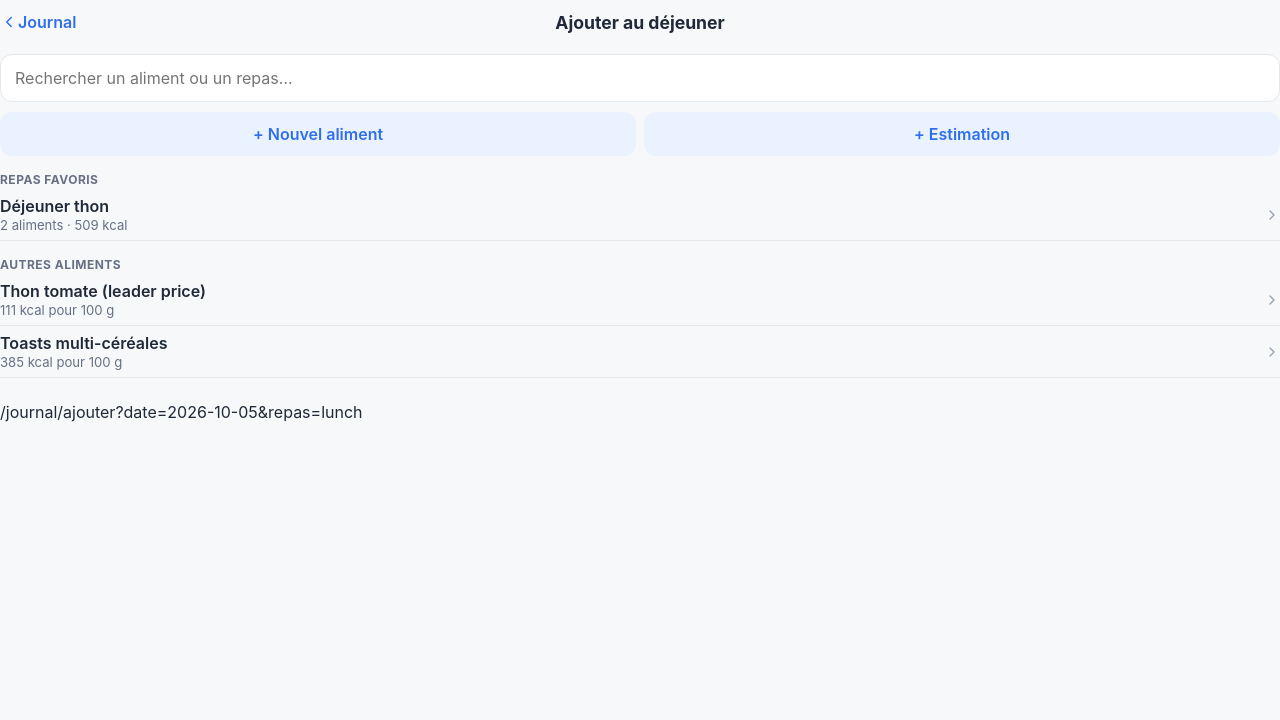
Test: ajouter un repas favori › quantité modifiée et aliment décoché pour cette fois : le repas favori ne change pas
Click the button "Déjeuner thon 2 aliments · 509 kcal" at (55, 206), box [0,189,1279,241]
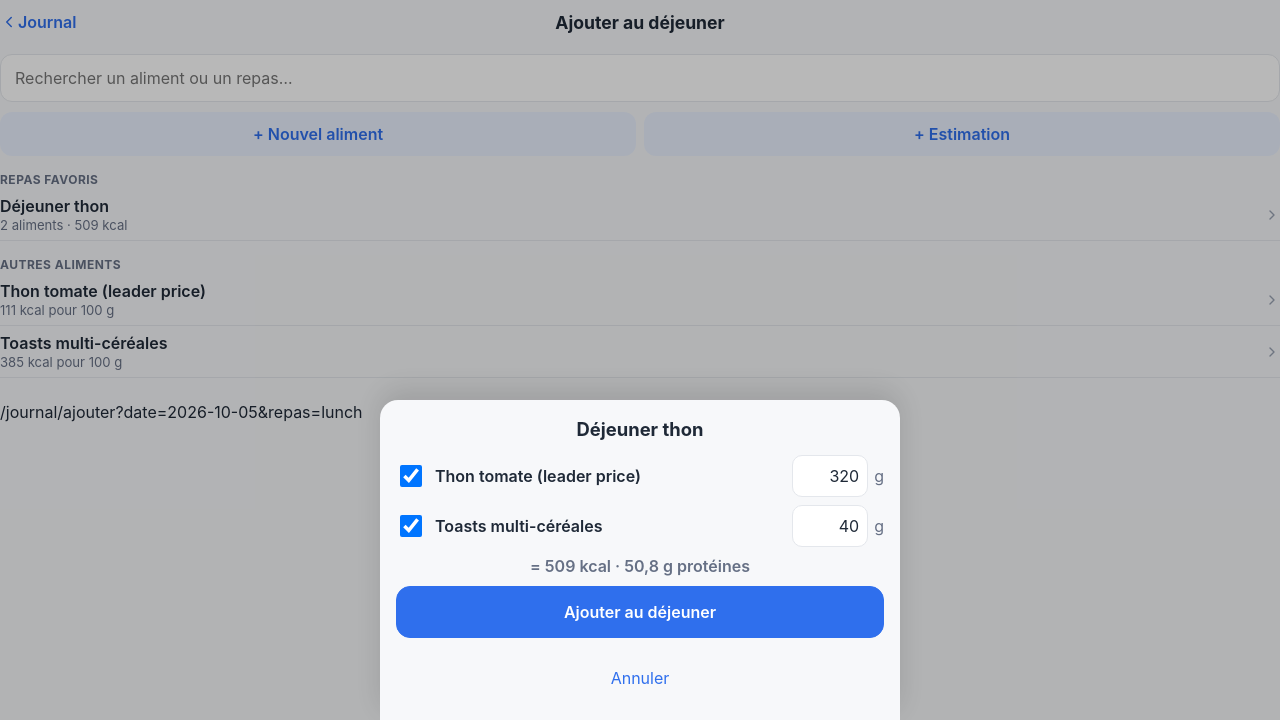
Replace the text in the field named "Quantité : Thon tomate (leader price)" with "160" at (830, 476), box [792,455,868,497]
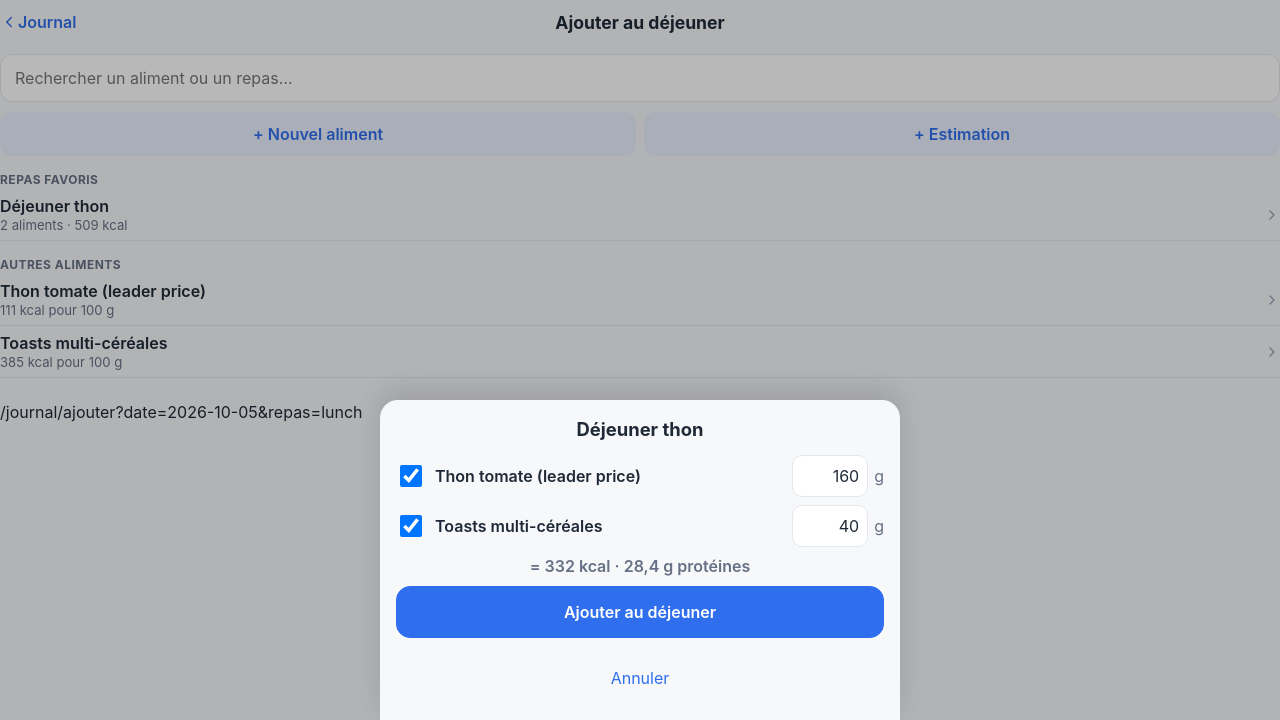
Click the checkbox named "Ajouter : Toasts multi-céréales" at (411, 526), box [400,515,422,537]
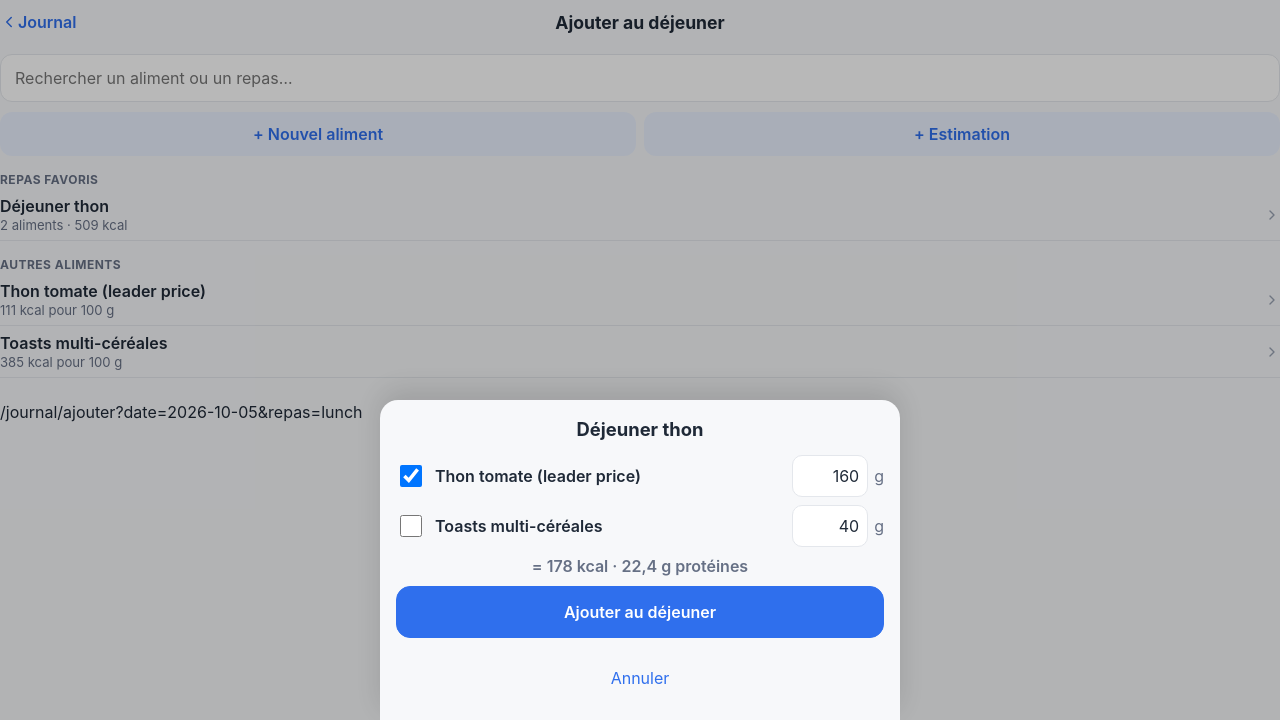
Result: the text "= 178 kcal · 22,4 g protéines" is shown at [532,556,748,576]
Click the button "Ajouter au déjeuner" at (640, 612), box [396,586,884,638]
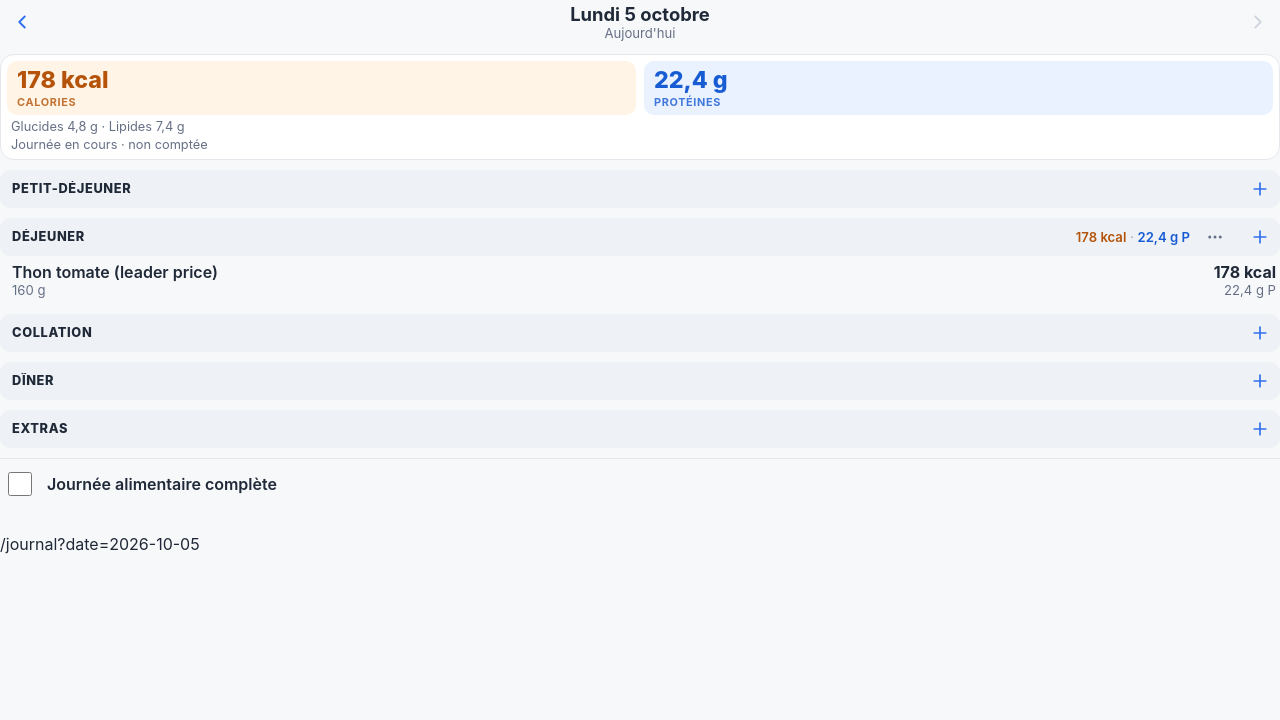
Result: the text with test id "url" reads "/journal?date=2026-10-05" at [0,534,200,554]
